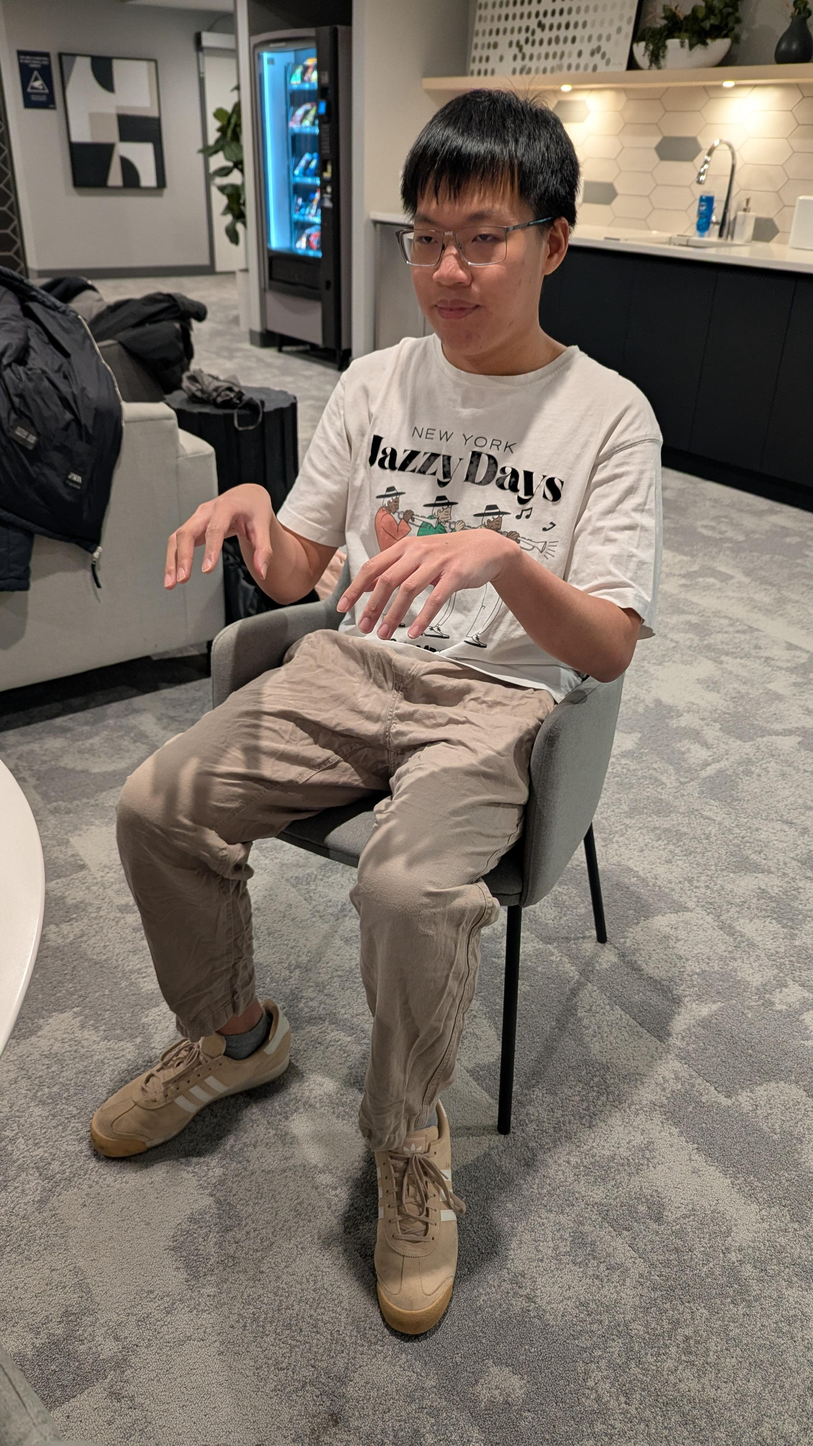GoodPosture: (86, 89, 664, 1337)
